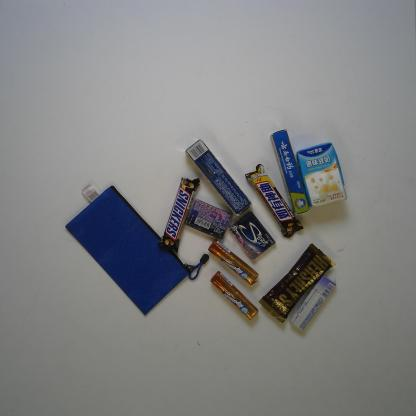Candy: (288, 274, 340, 332), (207, 270, 261, 320), (205, 238, 259, 284)
Chocolate: (259, 241, 335, 323), (243, 164, 305, 238), (158, 176, 204, 256)
Gum: (225, 208, 276, 263), (182, 194, 233, 243)
Milk: (292, 143, 351, 210)
Personal Hygiene: (184, 138, 252, 218), (268, 127, 313, 217)
Stationery: (62, 181, 210, 317)
